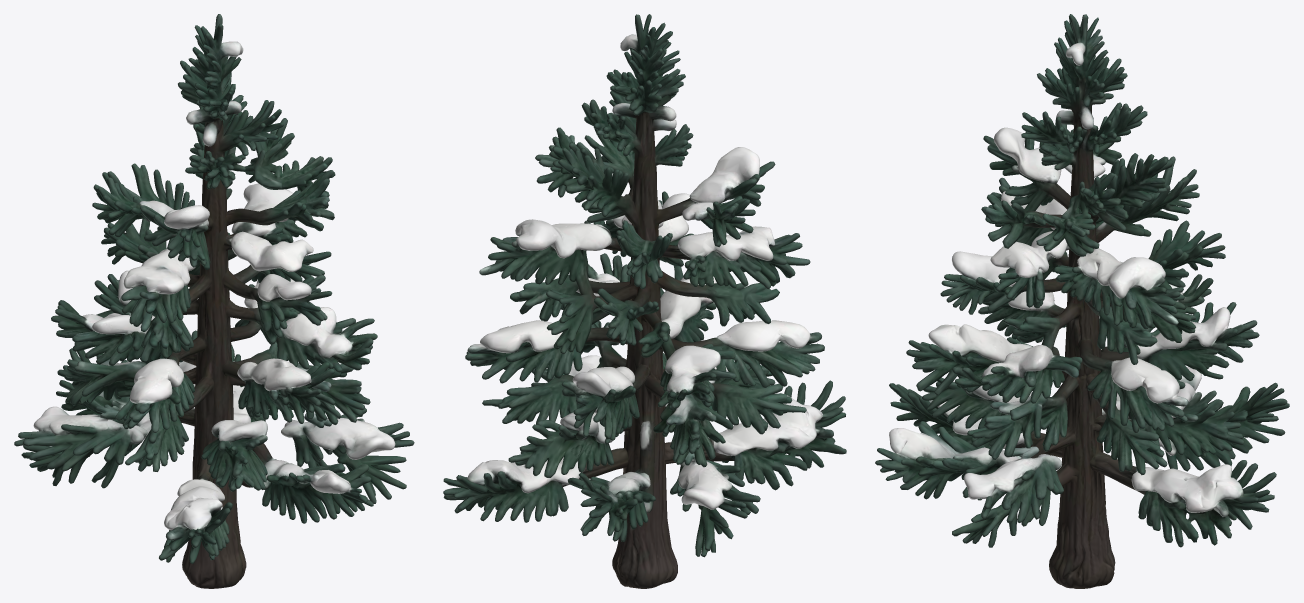
The model's file is resized.glb.
3 views of the same model, side by side, from view 1: azimuth 30°, elevation 25°; view 2: azimuth 150°, elevation 25°; view 3: azimuth 270°, elevation 25° (orthographic).
Visible parts, largest first — view 1: tripo_node_c7cf8c5b-abc0-4898-95b6-a58b4622f191; view 2: tripo_node_c7cf8c5b-abc0-4898-95b6-a58b4622f191; view 3: tripo_node_c7cf8c5b-abc0-4898-95b6-a58b4622f191.
Boxes of the visible parts, <box> form: tripo_node_c7cf8c5b-abc0-4898-95b6-a58b4622f191: <box>14,14,414,588</box>; tripo_node_c7cf8c5b-abc0-4898-95b6-a58b4622f191: <box>443,14,846,588</box>; tripo_node_c7cf8c5b-abc0-4898-95b6-a58b4622f191: <box>875,14,1289,588</box>.
Bounding box in the file's own units: 0.5505 × 0.9777 × 0.6431.
1 material, 1 textured.
